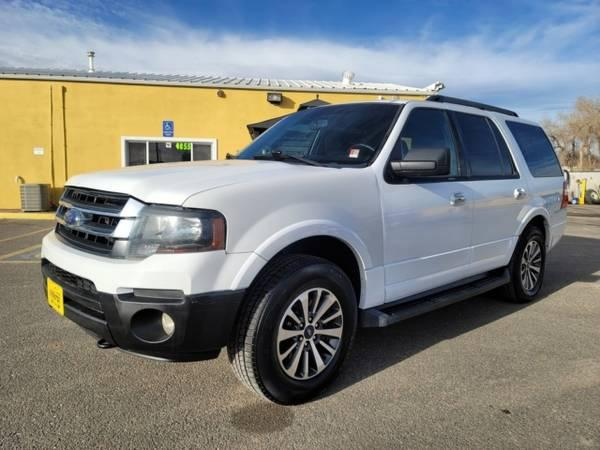Front_Bumper: (40, 228, 267, 358)
Front_Fender: (184, 166, 384, 311)
Front_Left_Door: (379, 182, 466, 303)
Front_Left_Window: (377, 108, 460, 186)
Front_Windshield: (223, 103, 398, 168)
Grille: (47, 184, 142, 257)
Hood: (64, 155, 350, 205)
Left_Headlight: (119, 203, 223, 258)
Rear_Bumper: (545, 214, 564, 249)
Rear_Fender: (492, 115, 564, 222)
Rear_Left_Door: (464, 180, 531, 276)
Rear_Left_Window: (450, 113, 523, 182)
Roof: (364, 99, 532, 173)
Wheel: (228, 258, 362, 409), (514, 229, 547, 296)
